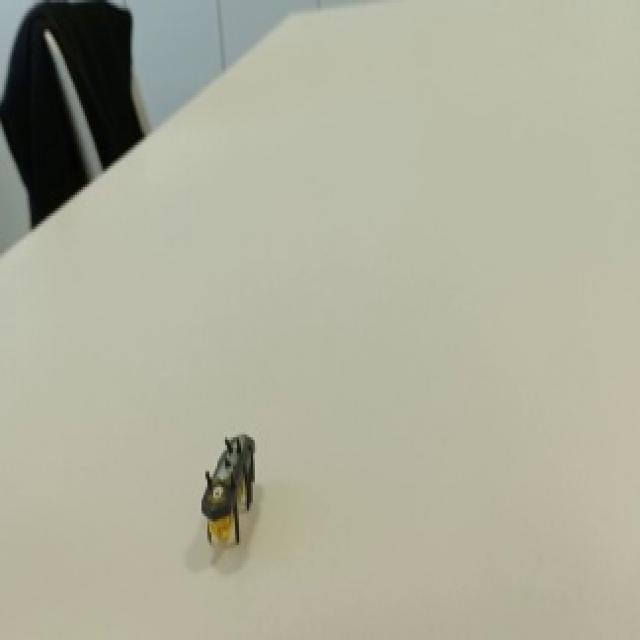6_NanoBug_GrisOscuro: (188, 420, 299, 580)
